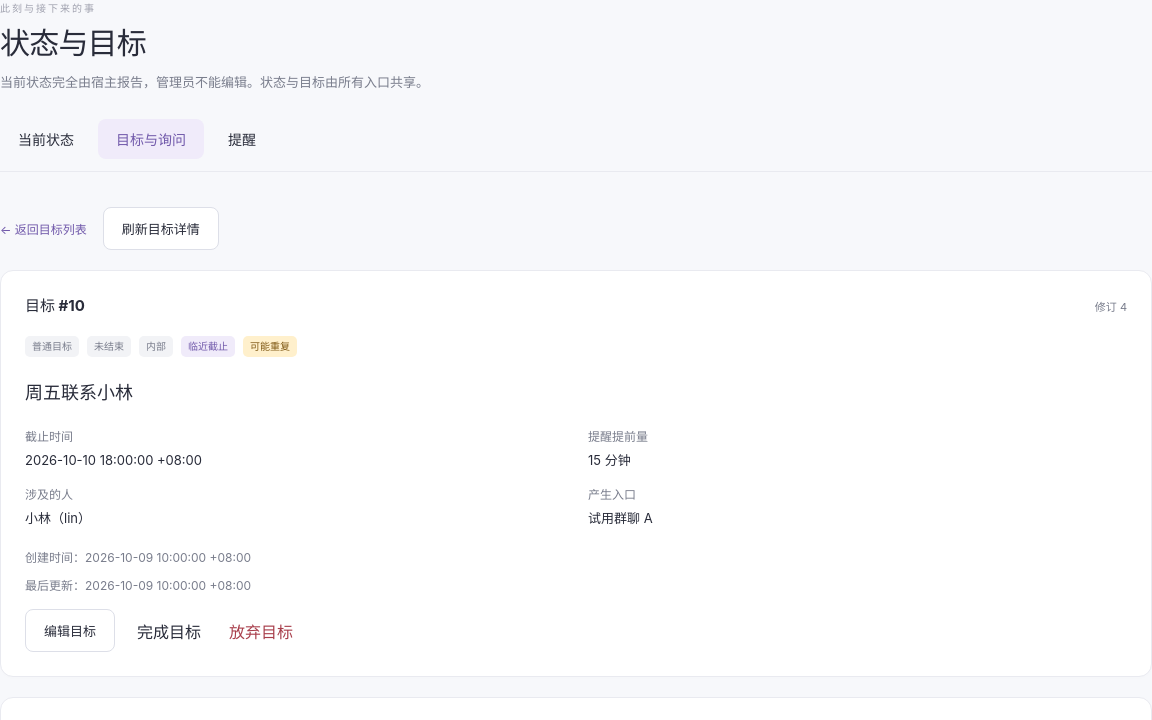
it: 状态页支持试用详情链接，提醒可进入目标，分区导航保持可用
Expected: the heading "目标 #10" is shown, [25,295,85,318]
Click the button "← 返回目标列表".
click(43, 228)  # box [0,214,87,243]
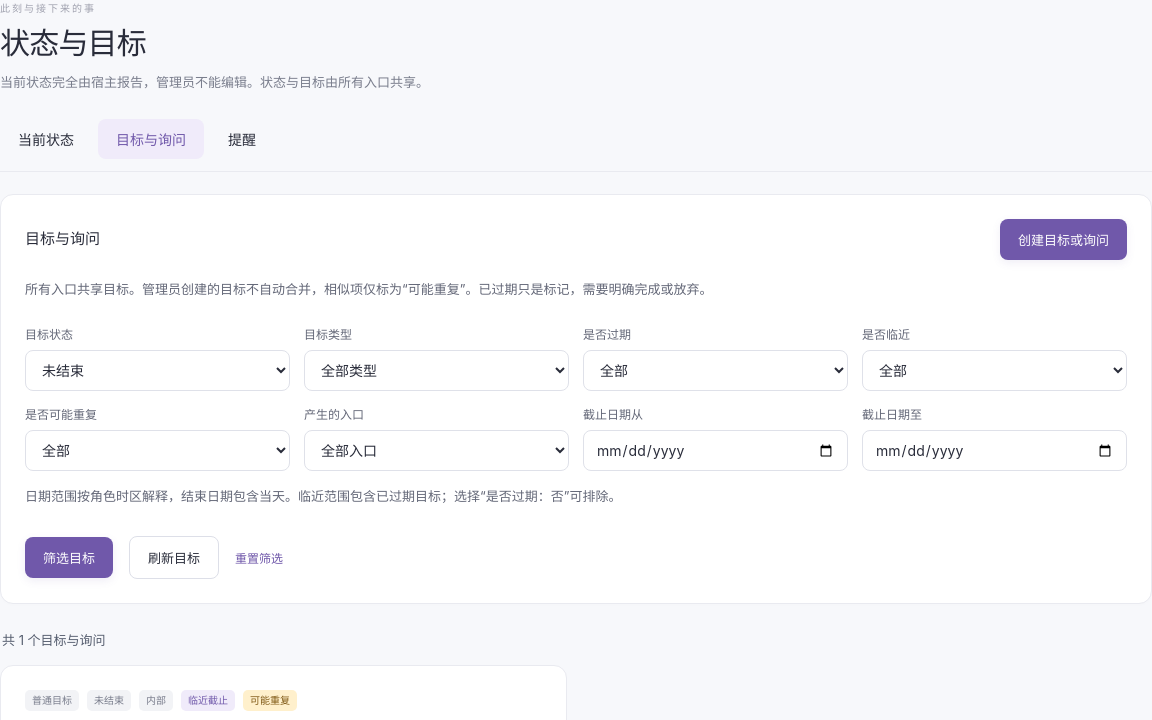
Click the button "提醒".
click(242, 139)  # box [210,119,274,159]
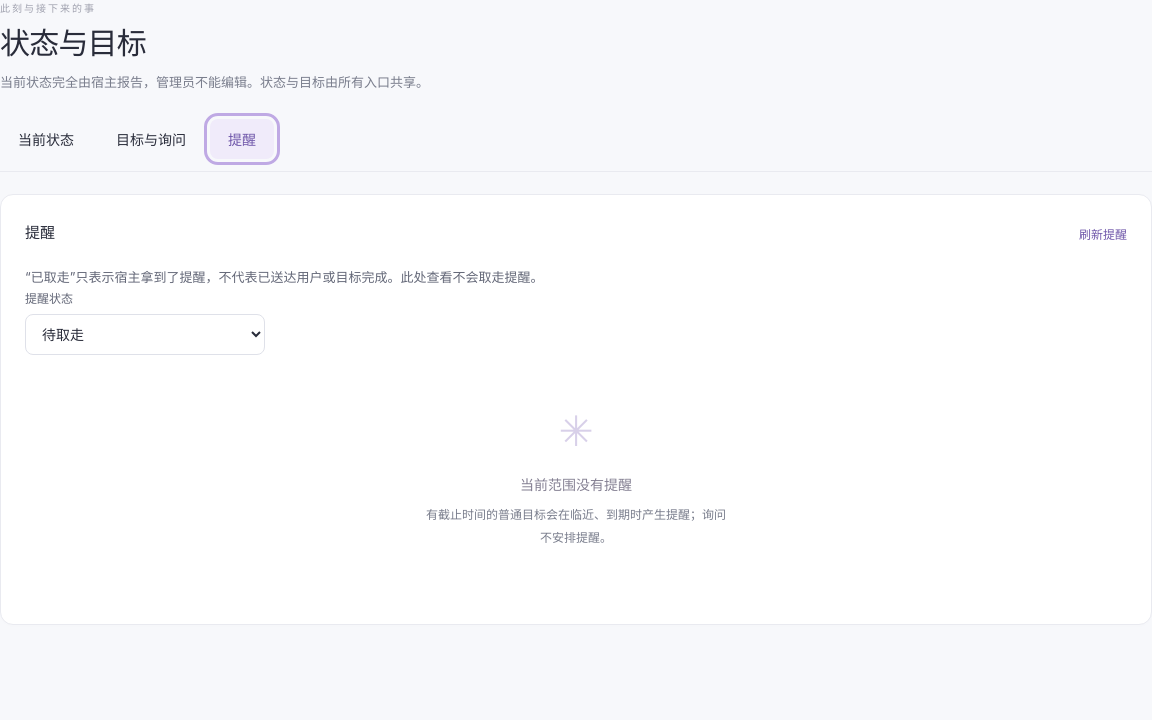
Now the heading "当前范围没有提醒" is shown, box [520,476,632,493]
Click the button "当前状态".
click(46, 139)  # box [0,119,92,159]
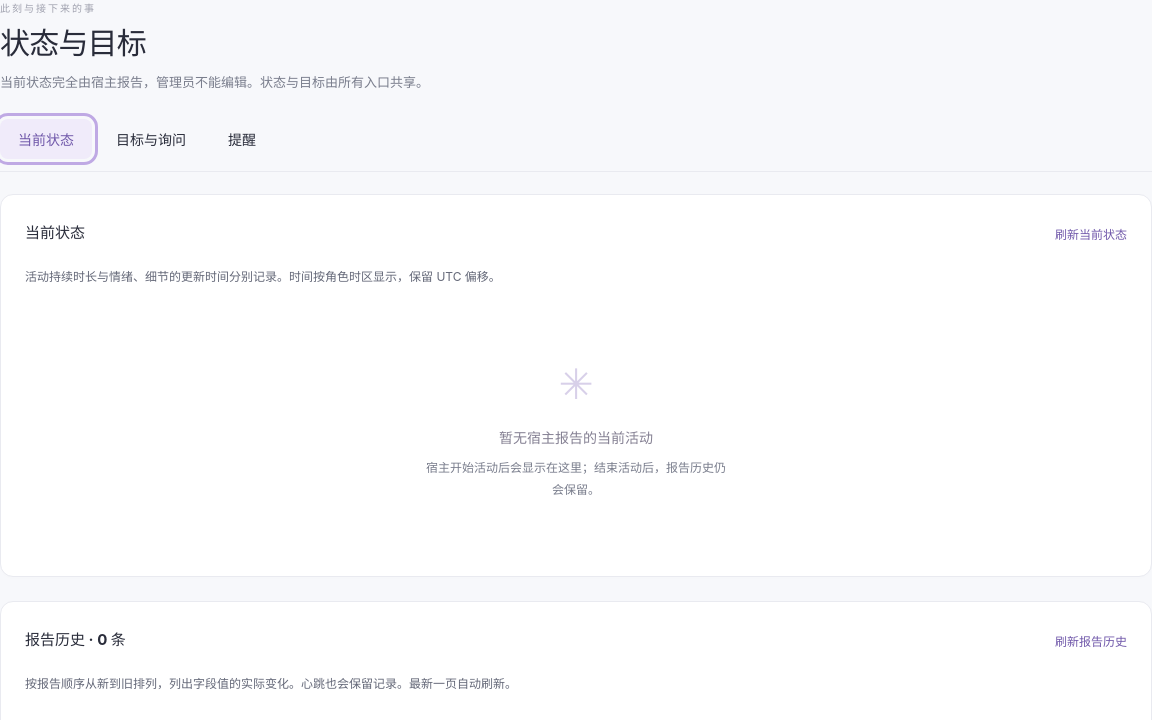
Now the heading "暂无宿主报告的当前活动" is shown, box [499,429,653,446]
